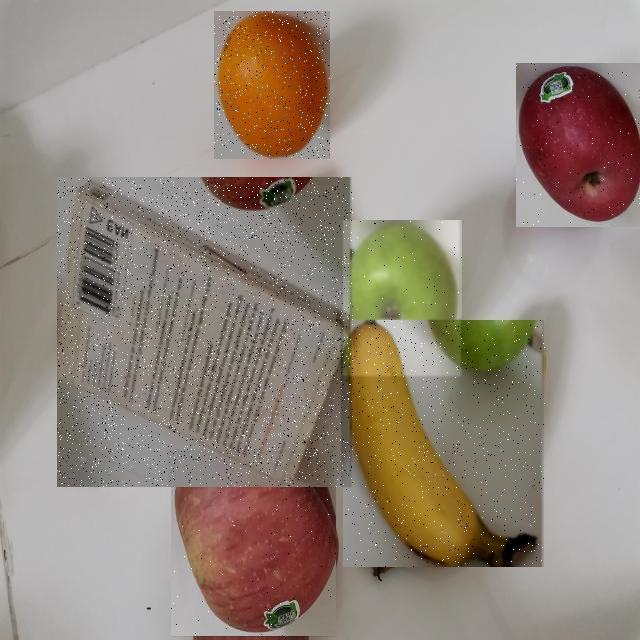Apple: (171, 450, 336, 640), (516, 63, 640, 227), (346, 220, 464, 376)
Banana: (344, 320, 546, 567)
Book: (58, 177, 354, 487)
Orange: (214, 11, 330, 159)
